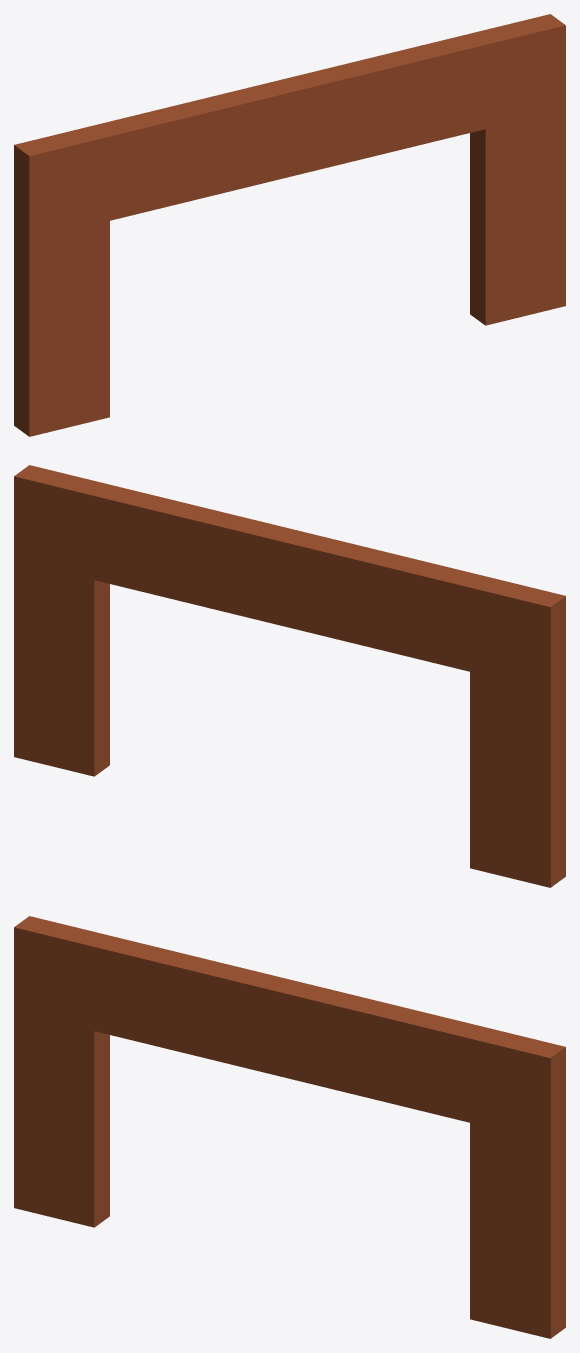
Rendered from garage_door_opening.fbx.
3 renders of one model, top to bottom at view 1: azimuth 30°, elevation 25°; view 2: azimuth 150°, elevation 25°; view 3: azimuth 330°, elevation 25°, orthographic.
Parts seen in each view (by area): view 1: Mesh1_wall_1_1 Model; view 2: Mesh1_wall_1_1 Model; view 3: Mesh1_wall_1_1 Model.
Boxes of the visible parts, box(x1,y1,x2,y2) form: Mesh1_wall_1_1 Model: box(14, 14, 565, 436); Mesh1_wall_1_1 Model: box(14, 465, 565, 887); Mesh1_wall_1_1 Model: box(14, 916, 565, 1338).
Size of the model in its own units: 2 by 1 by 0.1.
